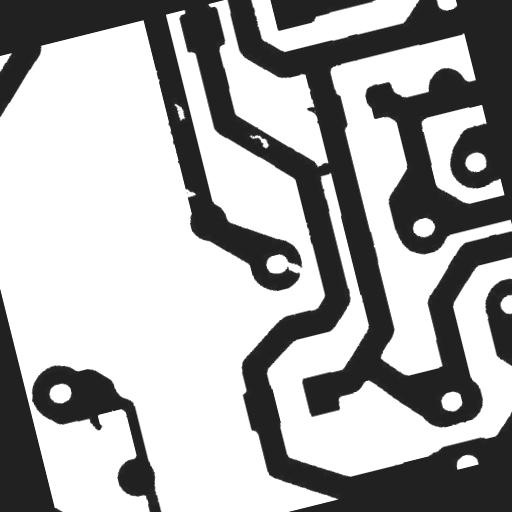mousebite: (172, 178, 205, 207)
open: (275, 248, 313, 288)
pin-hole: (240, 122, 278, 160), (164, 92, 194, 130)
short: (304, 152, 342, 186)
spur: (79, 403, 112, 441), (296, 96, 328, 127)
